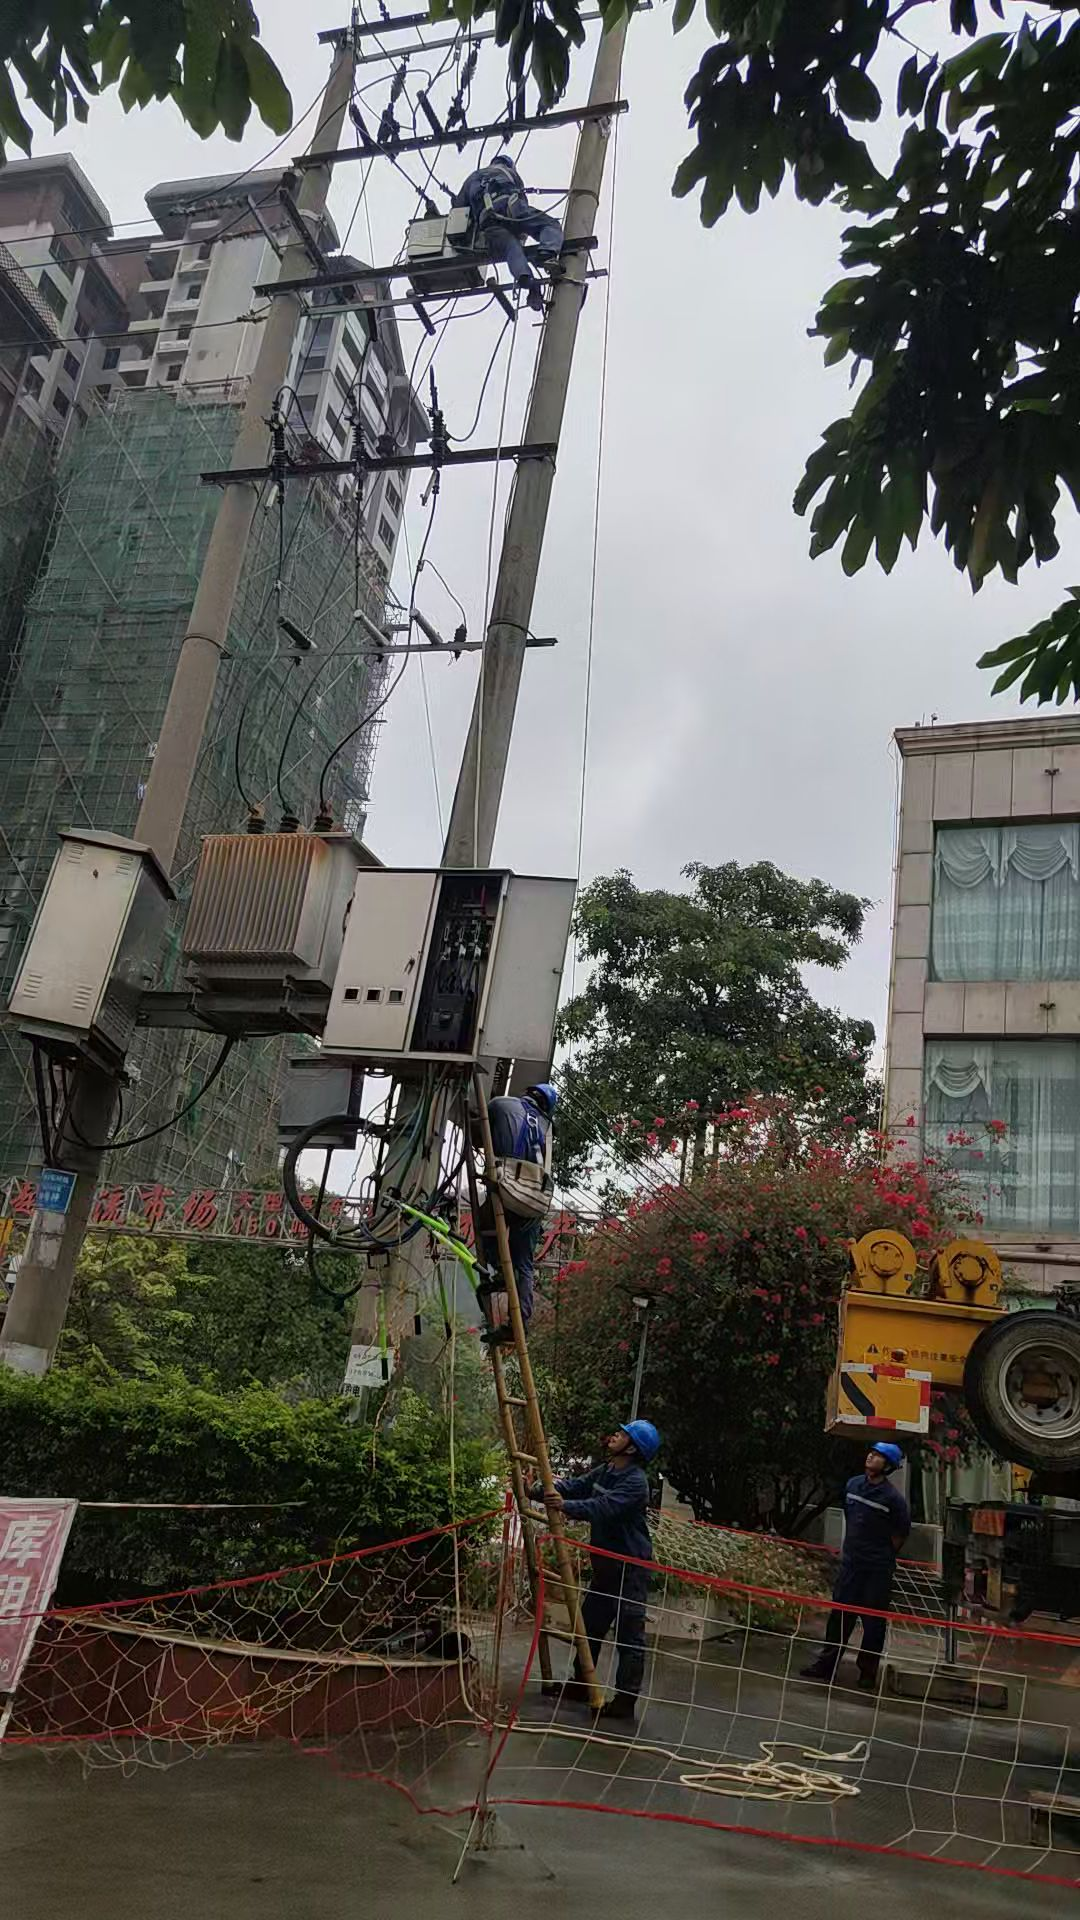downsuit: (574, 1586, 650, 1694), (478, 1202, 540, 1318), (825, 1570, 893, 1659)
halt: (607, 1418, 663, 1458), (865, 1441, 903, 1476), (528, 1082, 561, 1113)
hand: (541, 1487, 564, 1510)
person: (541, 1414, 672, 1700), (814, 1435, 921, 1663), (478, 1077, 566, 1324)
safebelt: (472, 1094, 552, 1166)
support: (517, 1416, 661, 1721)
upsuit: (554, 1465, 656, 1561), (840, 1475, 912, 1549), (482, 1096, 556, 1163)
